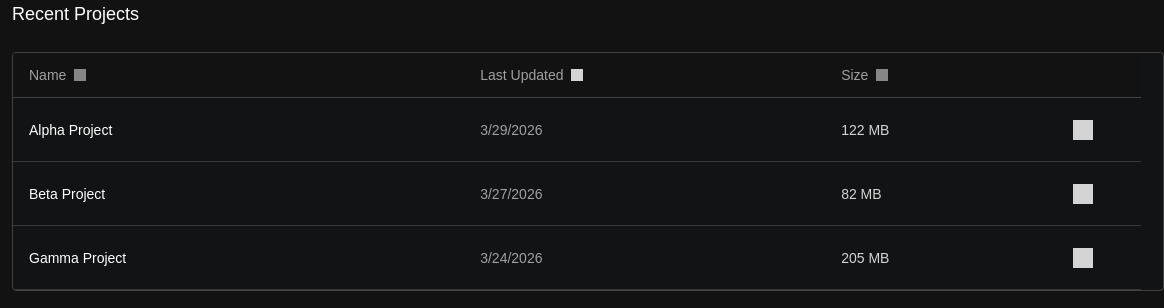
Scenario: <ProjectsTable /> › opens a menu with Rename and Delete when the actions button is clicked
The width and height of the screenshot is (1164, 308).
Click the button named "Open actions for Alpha Project" at (1083, 130), box [1067, 114, 1099, 146]
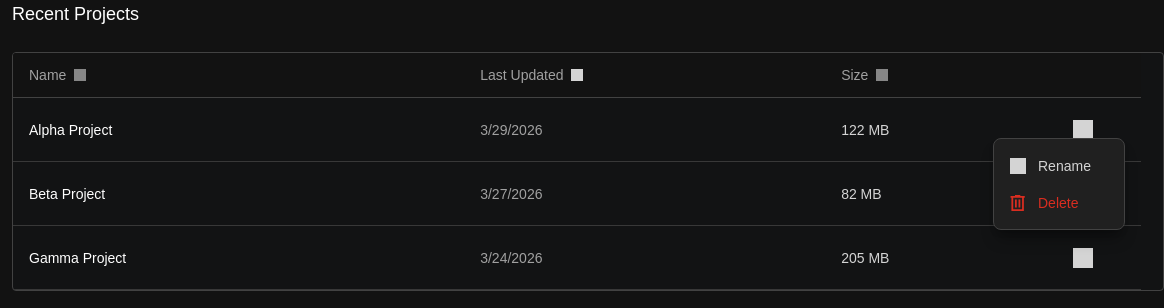
expect the menu named "Actions for Alpha Project" is shown: met, box [993, 138, 1125, 230]
expect the menu item "Rename" is shown: met, box [994, 147, 1124, 184]
expect the menu item "Delete" is shown: met, box [994, 184, 1124, 221]
